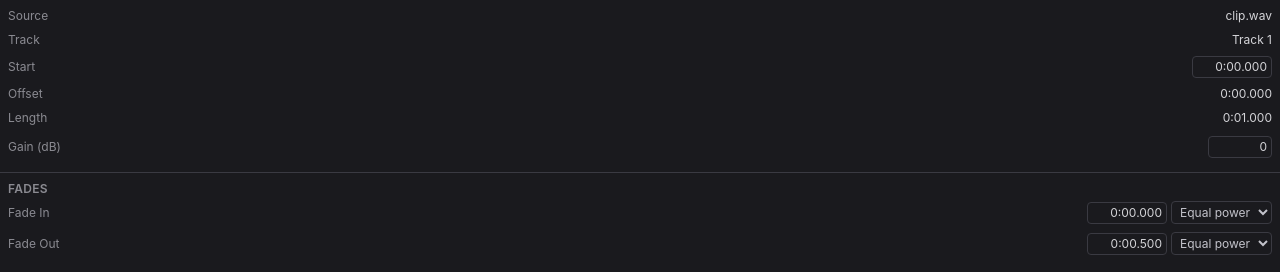
it: fade length inputs — bound to the store clamp, local-draft pattern › the STANDING fade wins at the meet boundary, and the echo shows what was granted
Replace the text in the field named "Fade in length" with "1.0" at (1127, 212), box [1087, 202, 1167, 224]
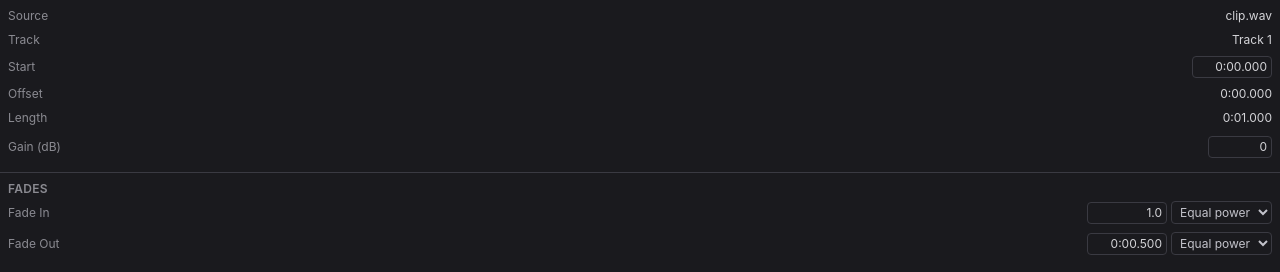
Leave the field named "Fade in length", box [1087, 202, 1167, 224]
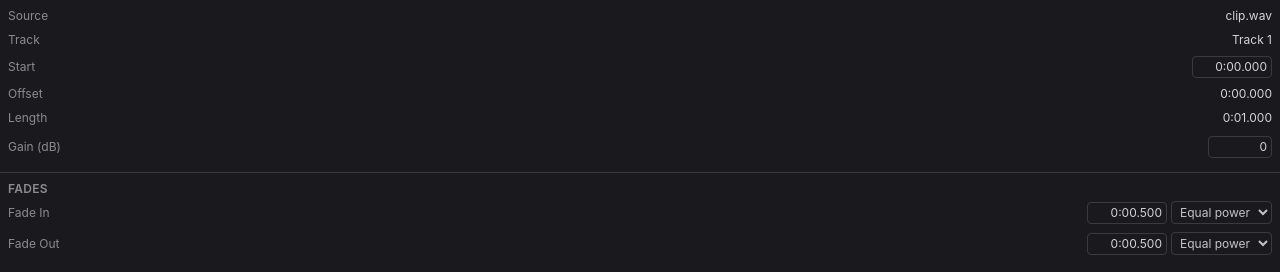
Result: the field named "Fade in length" holds "0:00.500" at [1087, 202, 1167, 224]
